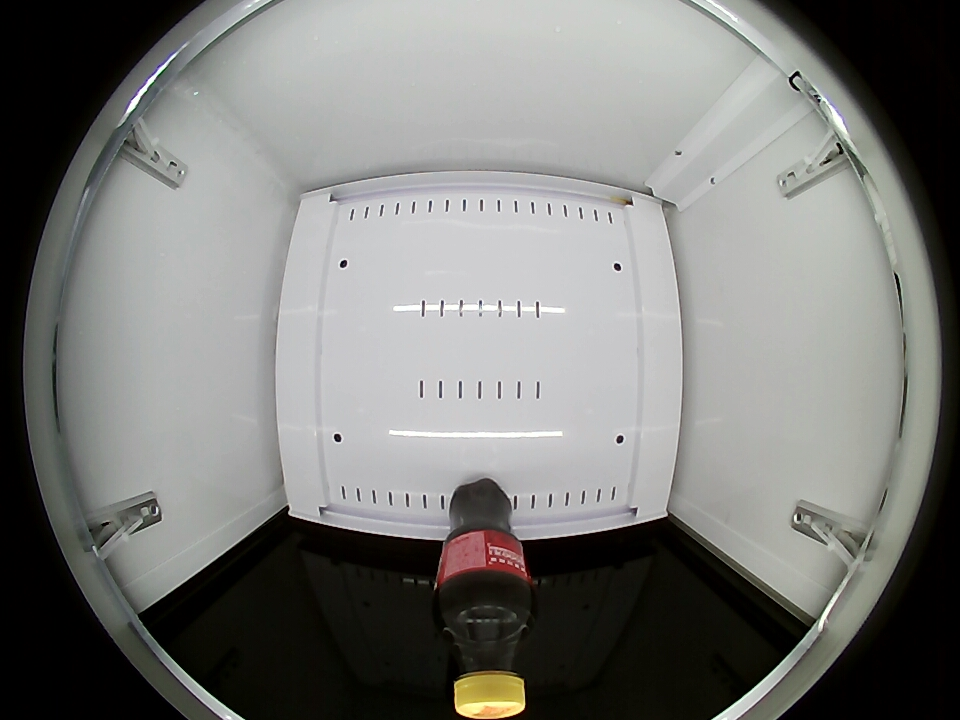kele-b-2: (436, 594, 536, 718)
